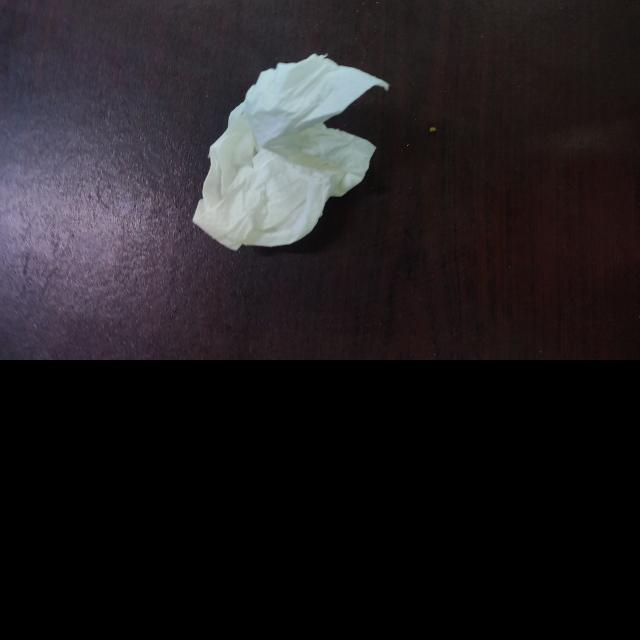kitchen paper: (185, 48, 396, 254)
